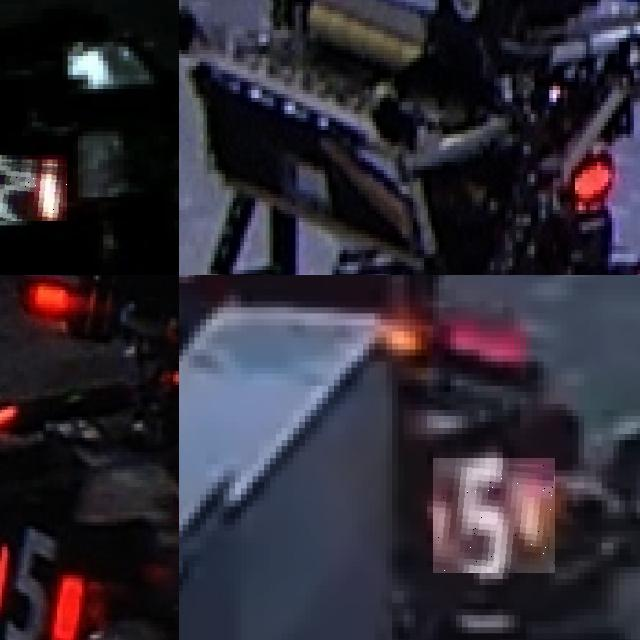R5: (433, 458, 555, 573), (0, 525, 85, 640)
Rs: (0, 155, 67, 221)
